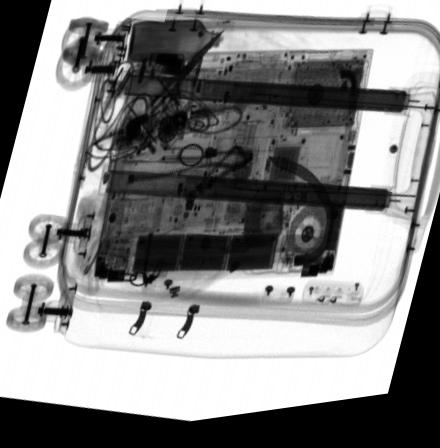Scissors: (122, 31, 225, 154)
